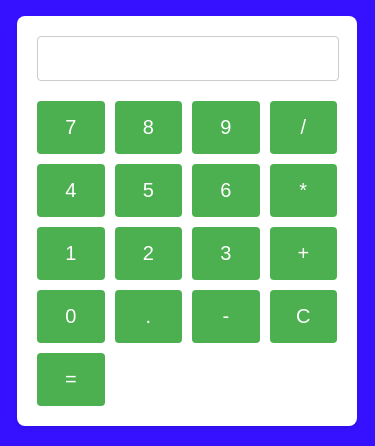
it: Calculator Component › should handle division by zero
Click the button "1": (71, 254) [37,227,104,280]
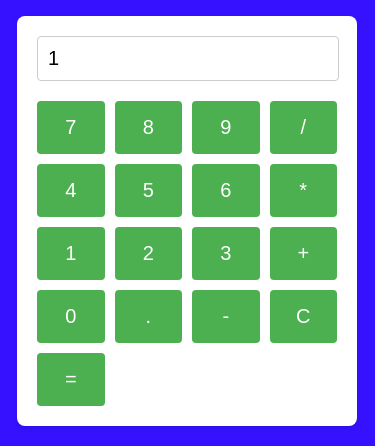
Click the button "/": (303, 128) [270,101,337,154]
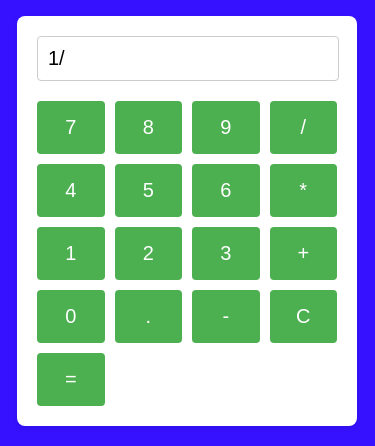
Click the button "0": (71, 316) [37,290,104,343]
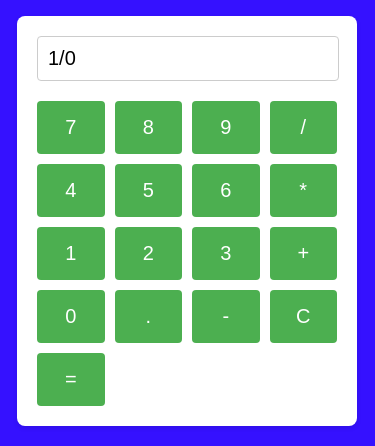
Click the button "=": (71, 380) [37,353,104,406]
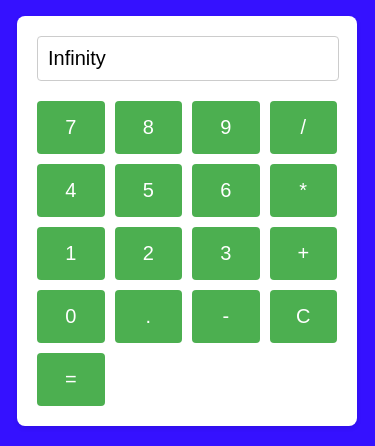
Expected: the field showing "Infinity" is shown, [37,36,339,81]
